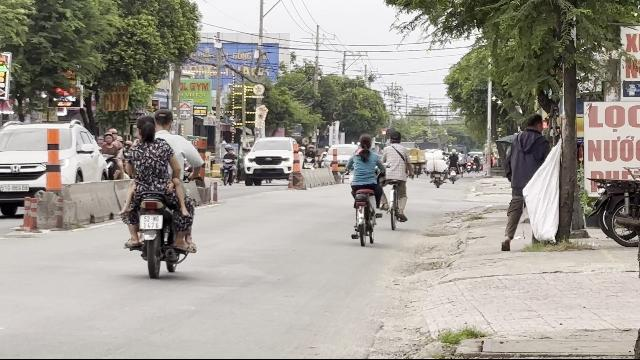licenseplate: (138, 214, 162, 230)
motorcyclist: (118, 103, 202, 276)
nohelmet: (134, 115, 156, 141), (152, 108, 174, 132)
